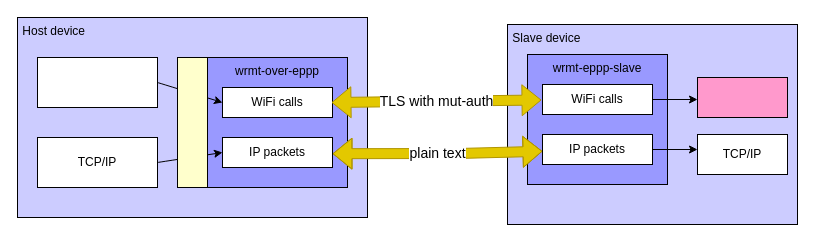
This 815x242 diagram has some shape labels left out. The centre of each missing label's shape, as x and y in pixels:
Application: the point at 97,82
esp-wifi-remote: the point at 192,122
WiFi library: the point at 742,97
